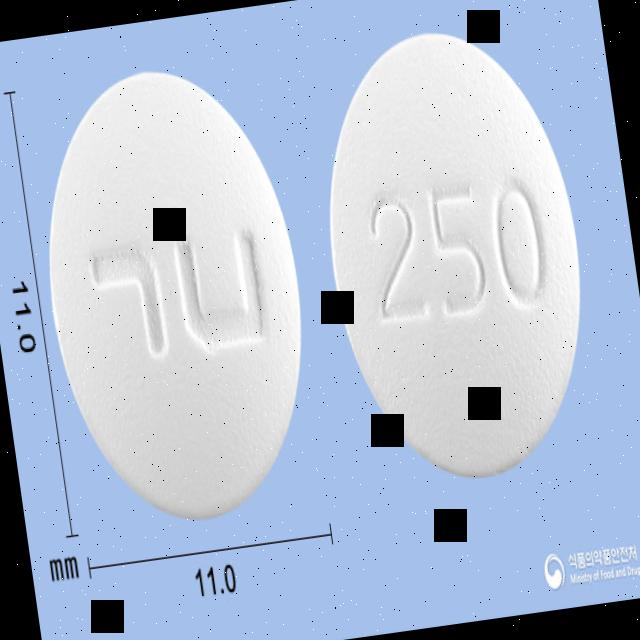Ciquroby: (17, 49, 336, 542), (299, 13, 612, 499)
